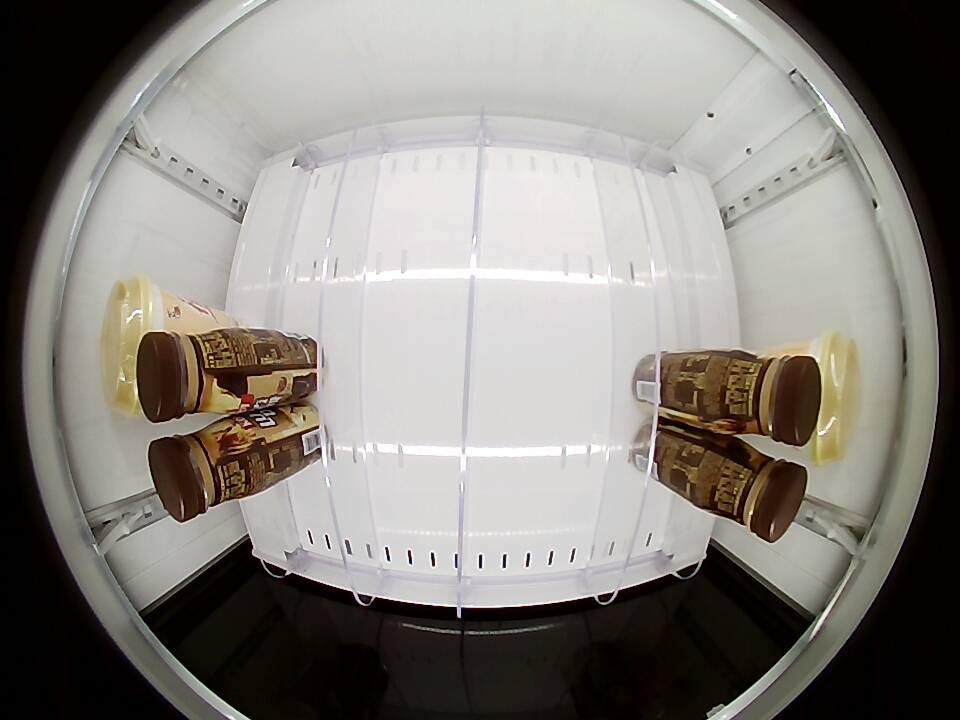lujikafei: (136, 325, 249, 422), (147, 419, 253, 522), (700, 442, 809, 542), (710, 349, 821, 445)
youlemei: (101, 275, 170, 419), (800, 330, 861, 466)
